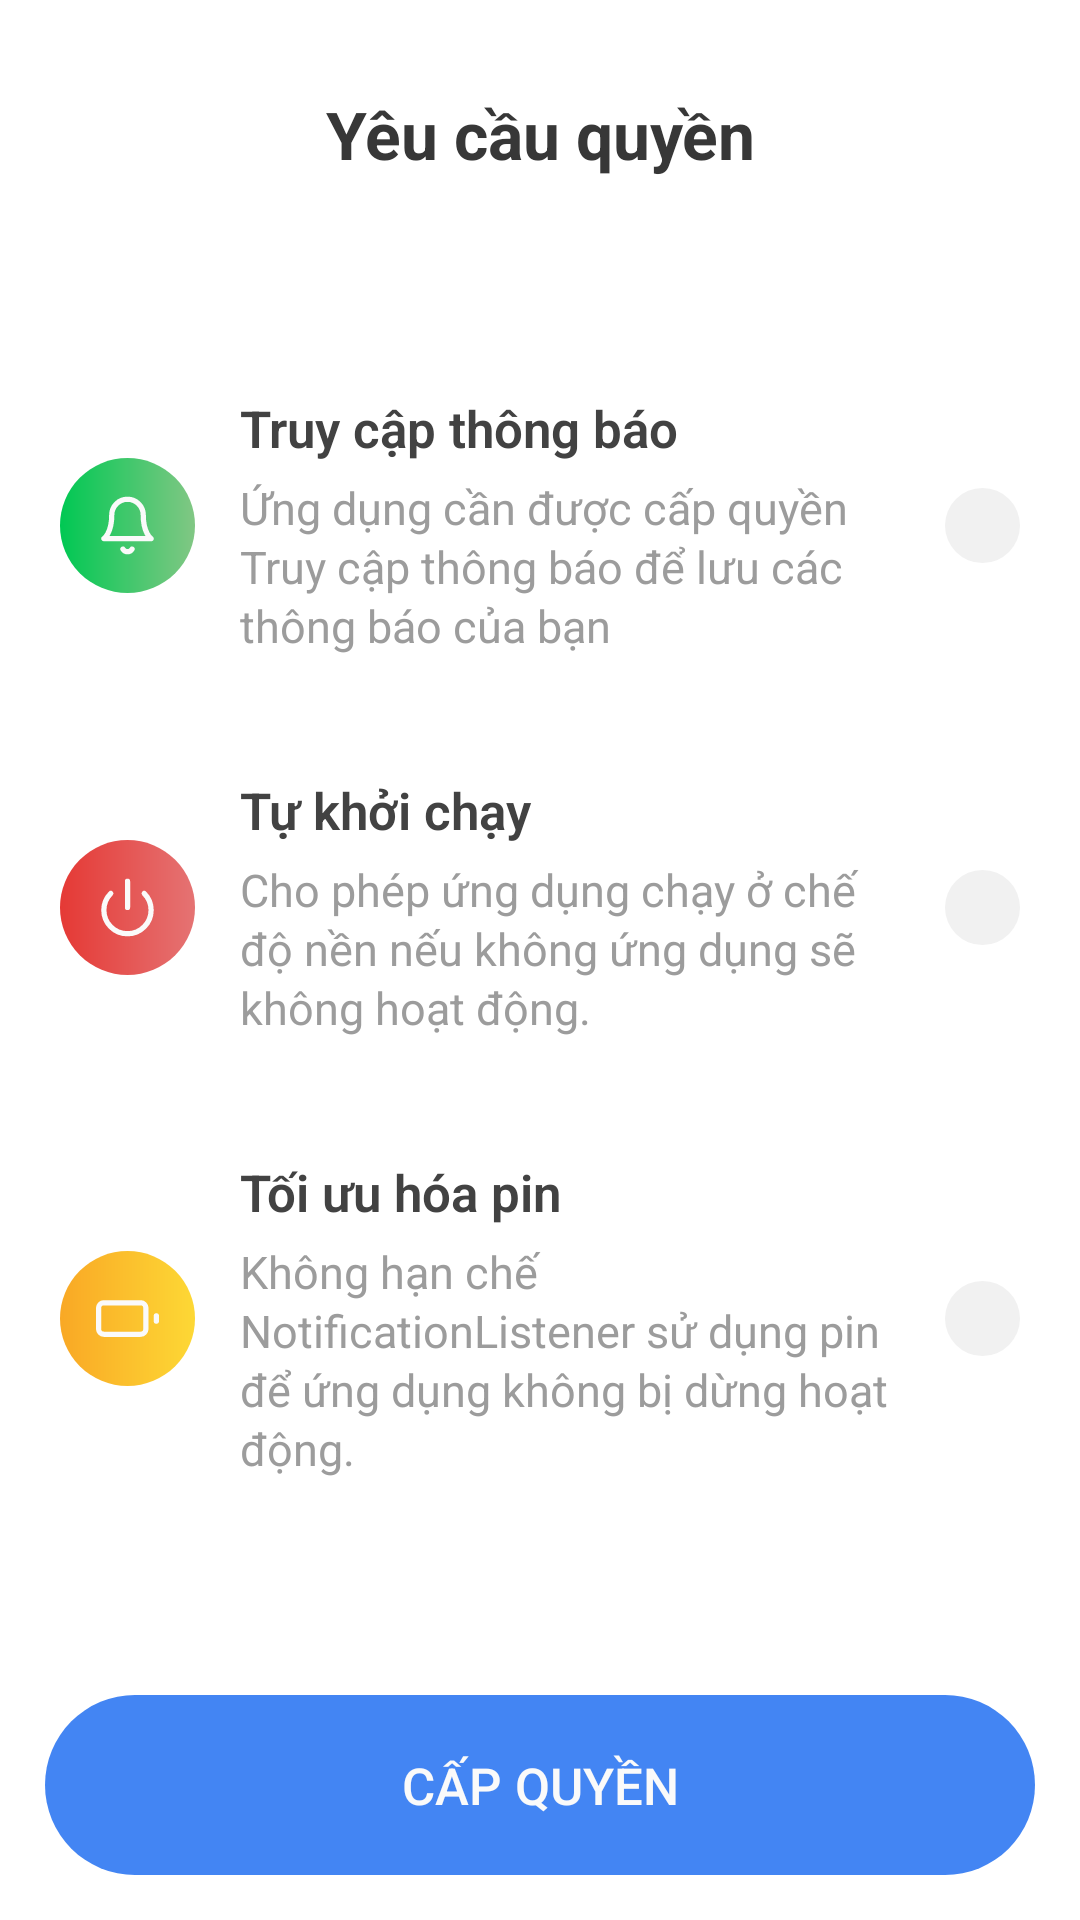

Icons on this 1080 × 1920 Android screen, each with its box as [x1,y1,x2,y2]:
battery: [60,1251,195,1386]
bell: [60,458,195,593]
power: [60,840,195,975]
